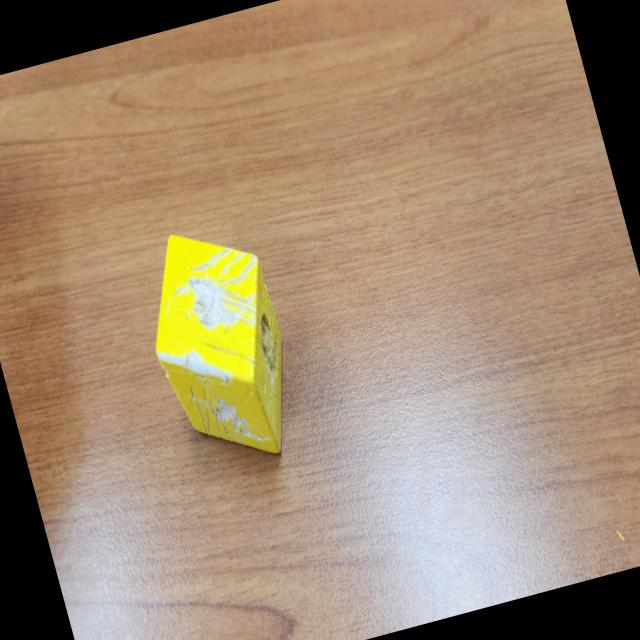broken: (127, 212, 310, 479)
